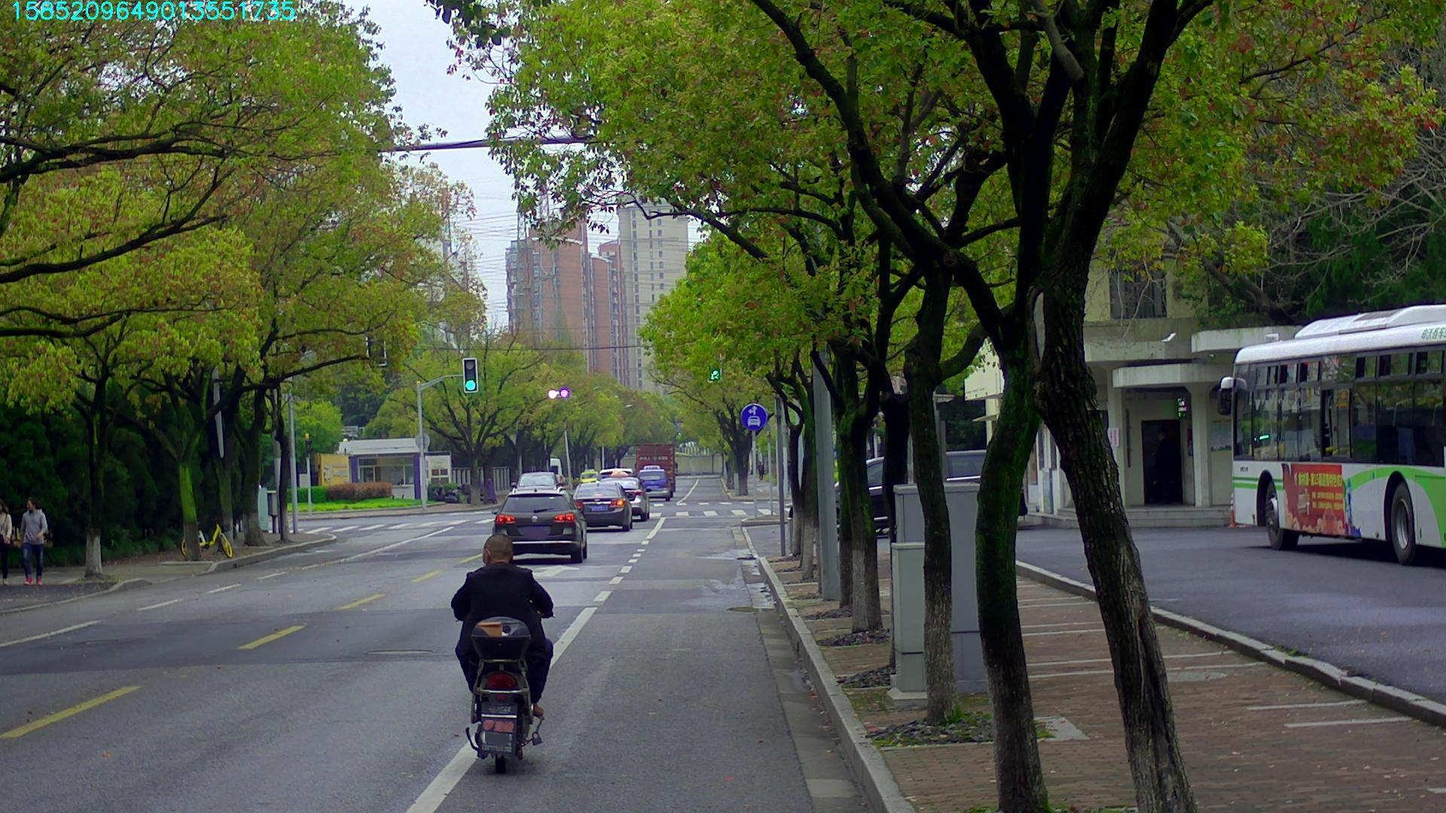green: (462, 358, 477, 391), (708, 344, 721, 381)
